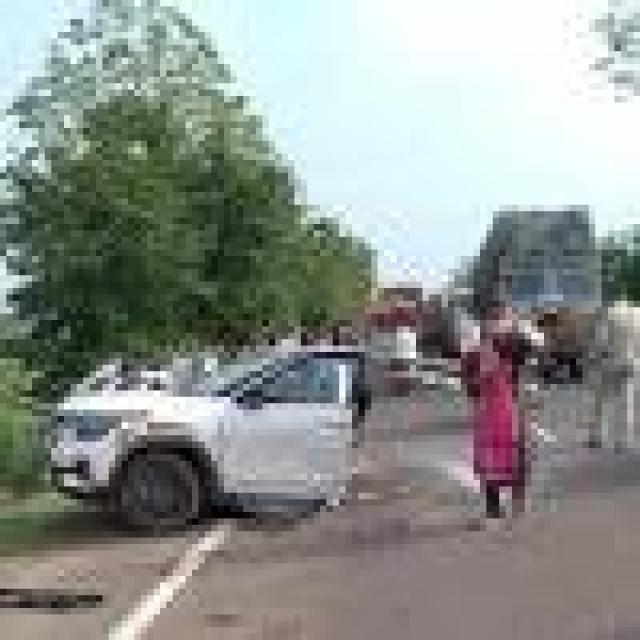severe: (63, 325, 472, 547)
